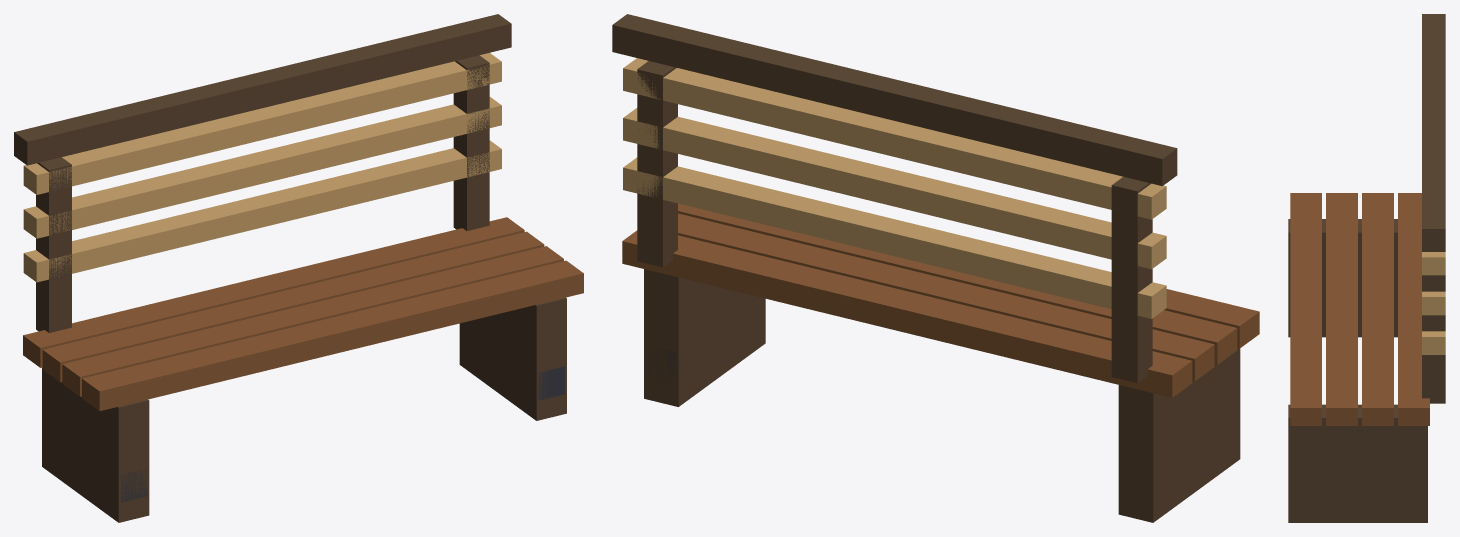
The model's file is bench.glb.
The picture shows the model from 3 angles, left to right: view 1: azimuth 30°, elevation 25°; view 2: azimuth 150°, elevation 25°; view 3: azimuth 270°, elevation 25°; orthographic projection. The views are drawn at different scales.
Parts seen in each view (by area): view 1: bench; view 2: bench; view 3: bench.
Boxes of the visible parts, x1,y1,x2,y2 form: bench: (14, 14, 583, 522); bench: (612, 14, 1259, 522); bench: (1288, 14, 1445, 522).
Bounding box in the file's own units: 2.55 × 1.67 × 0.79.
